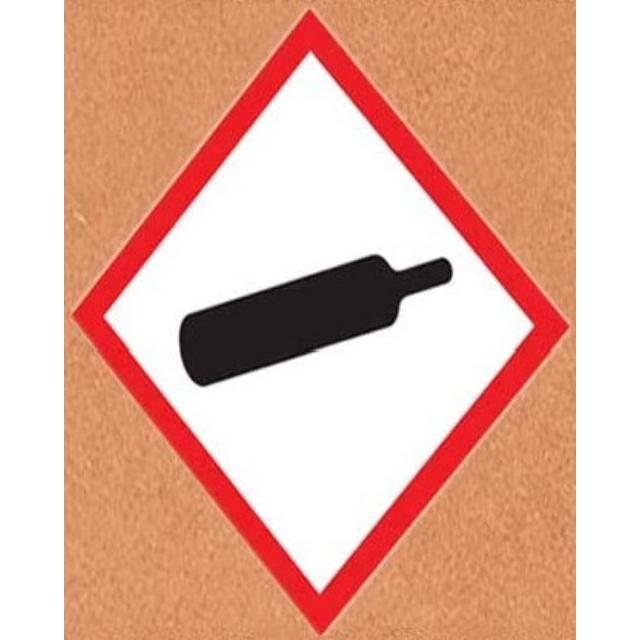gas under pressure: (179, 252, 453, 388)
